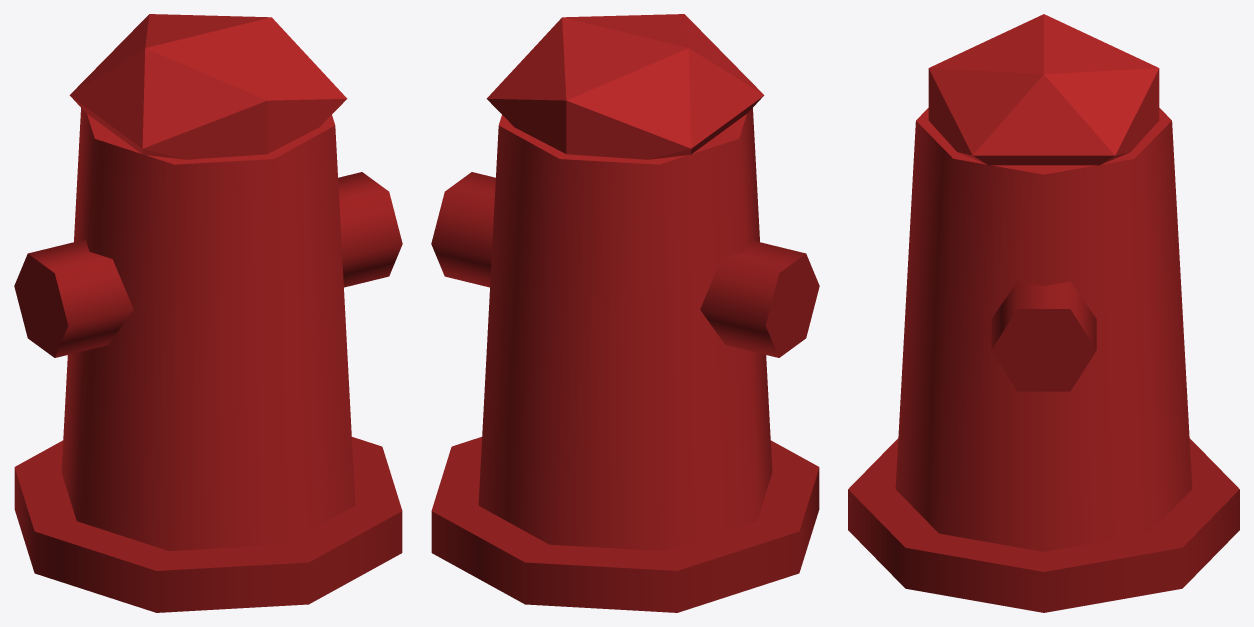
The model's file is hydrant.glb.
The picture shows the model from 3 angles, left to right: view 1: azimuth 30°, elevation 25°; view 2: azimuth 150°, elevation 25°; view 3: azimuth 270°, elevation 25°; orthographic projection. The views are drawn at different scales.
Visible parts, largest first — view 1: body; view 2: body; view 3: body.
Part boxes in pixels (x1,y1,x2,y2): body: (14, 14, 402, 612); body: (431, 14, 819, 612); body: (848, 14, 1239, 612).
Size of what is drawn, in the model's own units: 0.52 by 0.7119 by 0.52.
